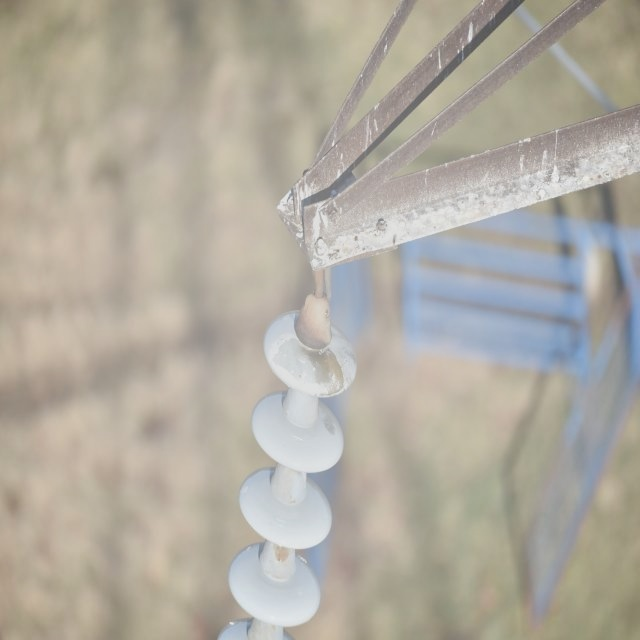insulator: (218, 306, 358, 640)
